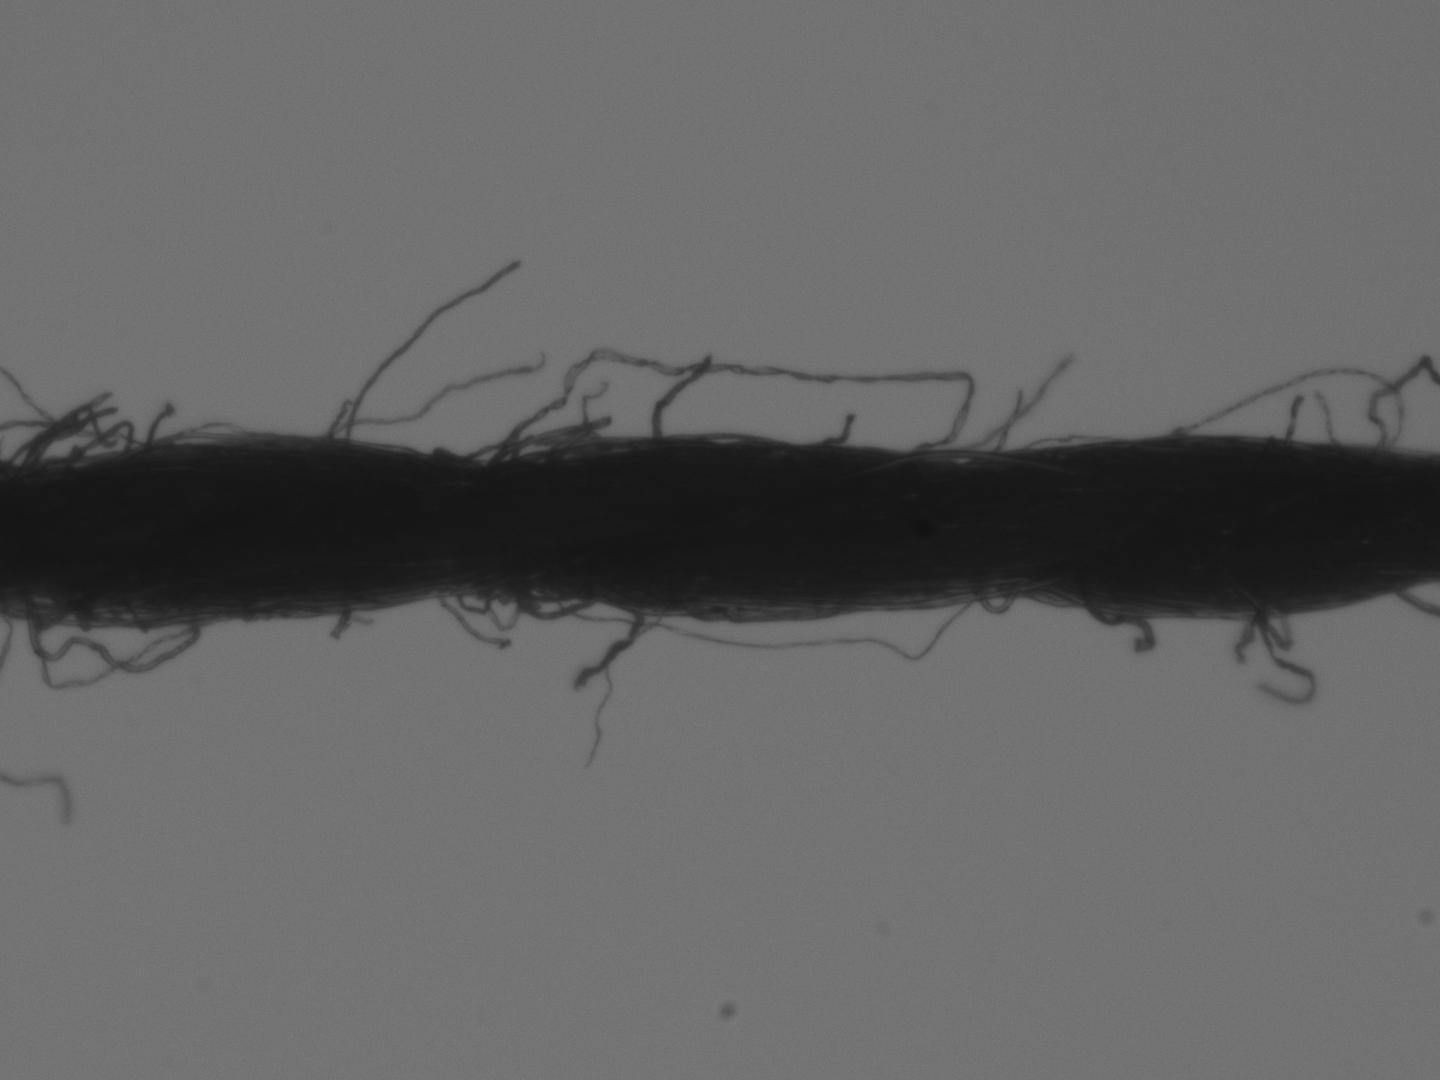loop_fiber: (464, 346, 980, 459), (1161, 361, 1412, 452), (31, 618, 183, 694), (27, 619, 198, 683), (43, 412, 136, 469), (489, 417, 608, 462), (503, 592, 599, 622), (972, 589, 1026, 618), (451, 593, 489, 613)
protruding_fiber: (336, 251, 528, 444), (1281, 389, 1305, 439)
